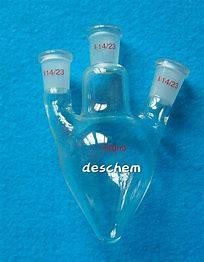Pear shaped flask: (35, 25, 184, 247)
